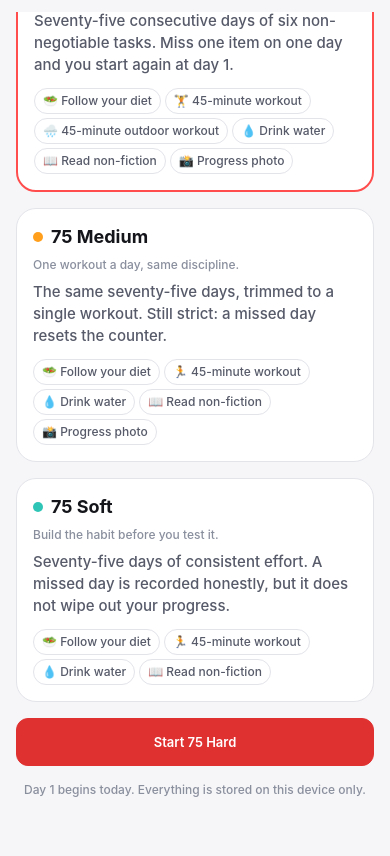
Test: <App /> › onboards when no challenge exists, then shows day 1
(page scrolled)
What coordinates should you click on to do the following:
click the button "Start 75 Hard"
I would click on:
 (195, 742)
Its box is top-left (16, 718), bottom-right (374, 766).
(page scrolled)
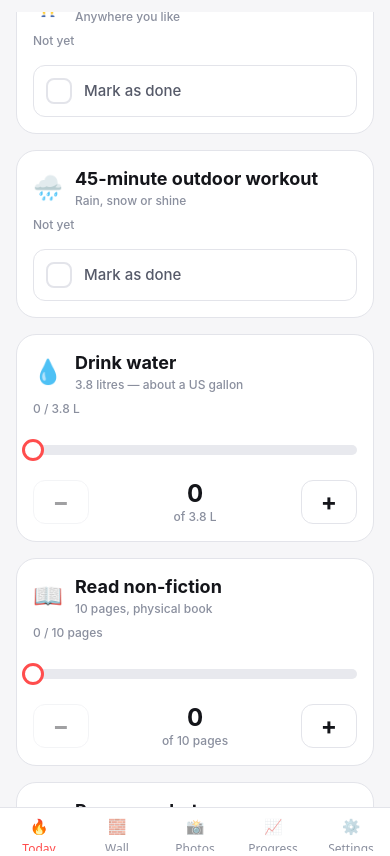
Expected: the text "Today" is shown, top-left (22, 841), bottom-right (56, 851)
Expected: the text "0 / 3.8 L" is shown, top-left (33, 401), bottom-right (80, 416)
